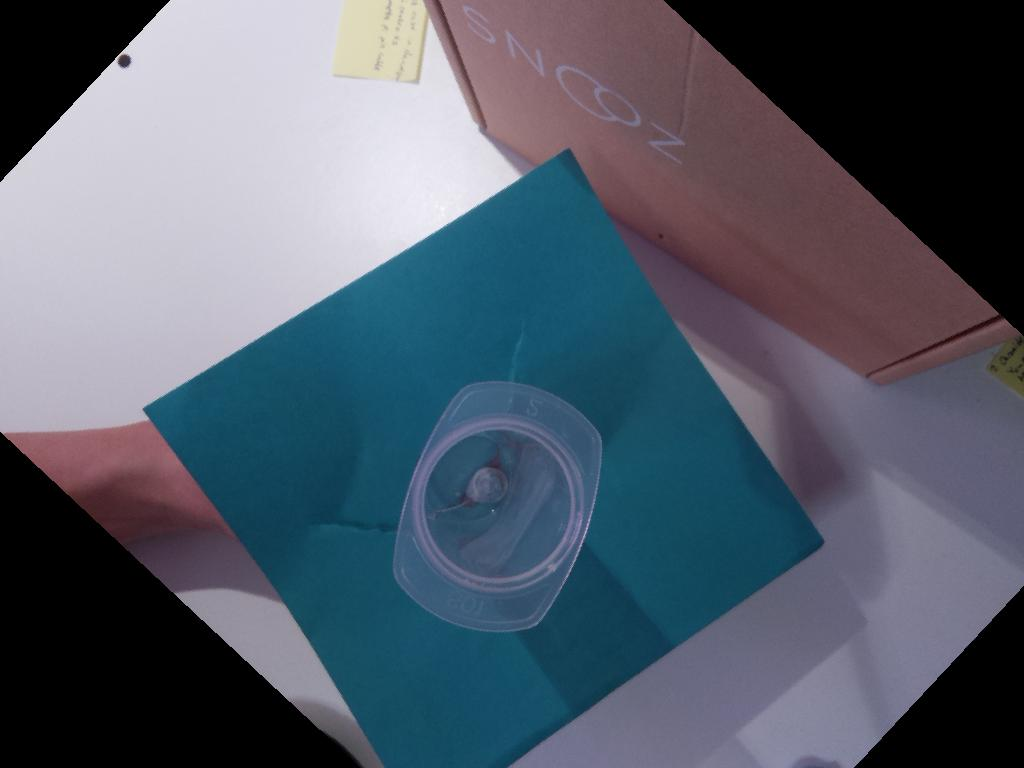clean: (390, 378, 601, 634)
